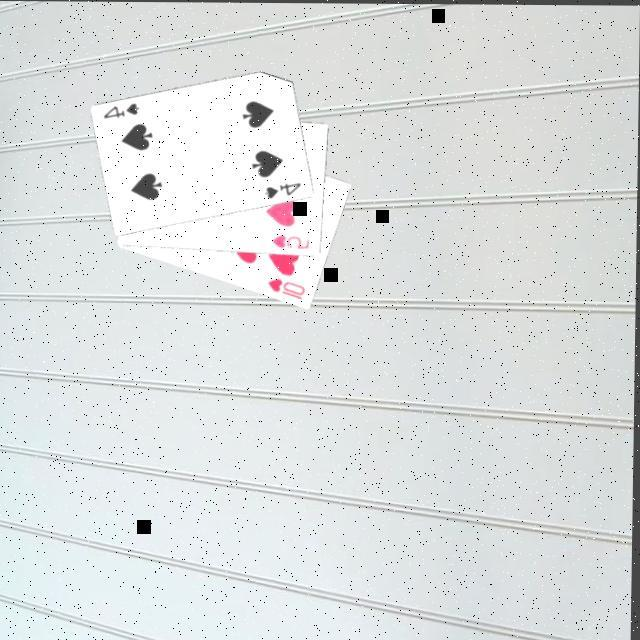10H: (265, 273, 308, 300)
4S: (262, 177, 304, 199), (100, 98, 142, 120)
5H: (269, 230, 313, 250)
